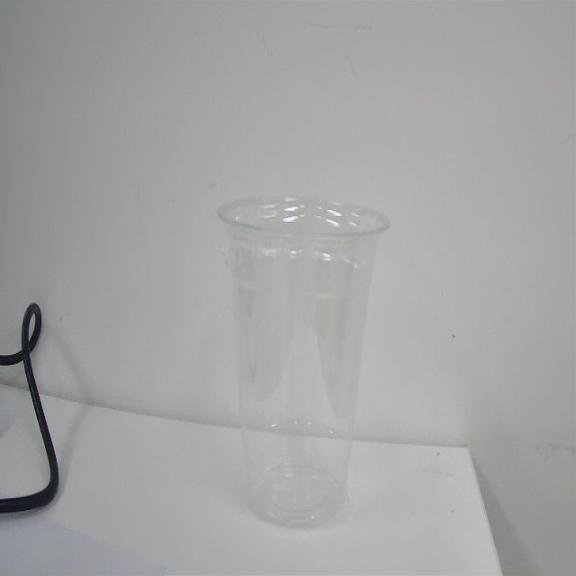Plastik: (219, 200, 389, 526)
